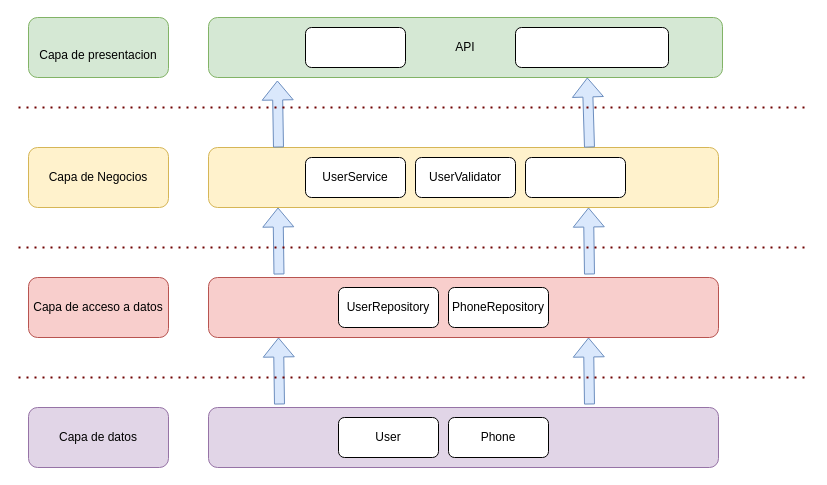
This 827x485 diagram has some shape labels left out. Each missing label, with the centre of its shape:
AuthenticationController: point (591, 47)
Security: point (575, 177)
UserController: point (355, 47)
